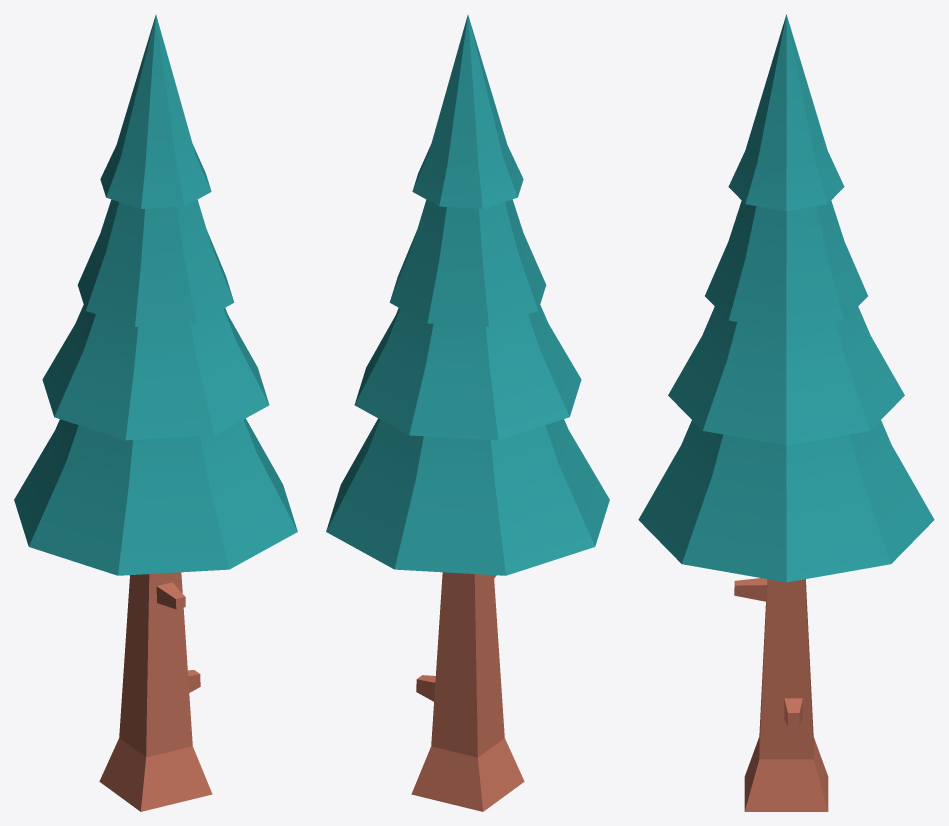
File: tree_pineDefaultA.dae
The picture shows the model from 3 angles, left to right: view 1: azimuth 30°, elevation 25°; view 2: azimuth 150°, elevation 25°; view 3: azimuth 270°, elevation 25°; orthographic projection.
Visible parts, largest first — view 1: tree_pineDefaultA; view 2: tree_pineDefaultA; view 3: tree_pineDefaultA.
Part boxes in pixels (box(x1,y1,x2,y2)): tree_pineDefaultA: box(14, 15, 297, 811); tree_pineDefaultA: box(326, 15, 609, 811); tree_pineDefaultA: box(638, 14, 934, 811).
Size of the model in its own units: 0.532 by 1.55 by 0.532.
